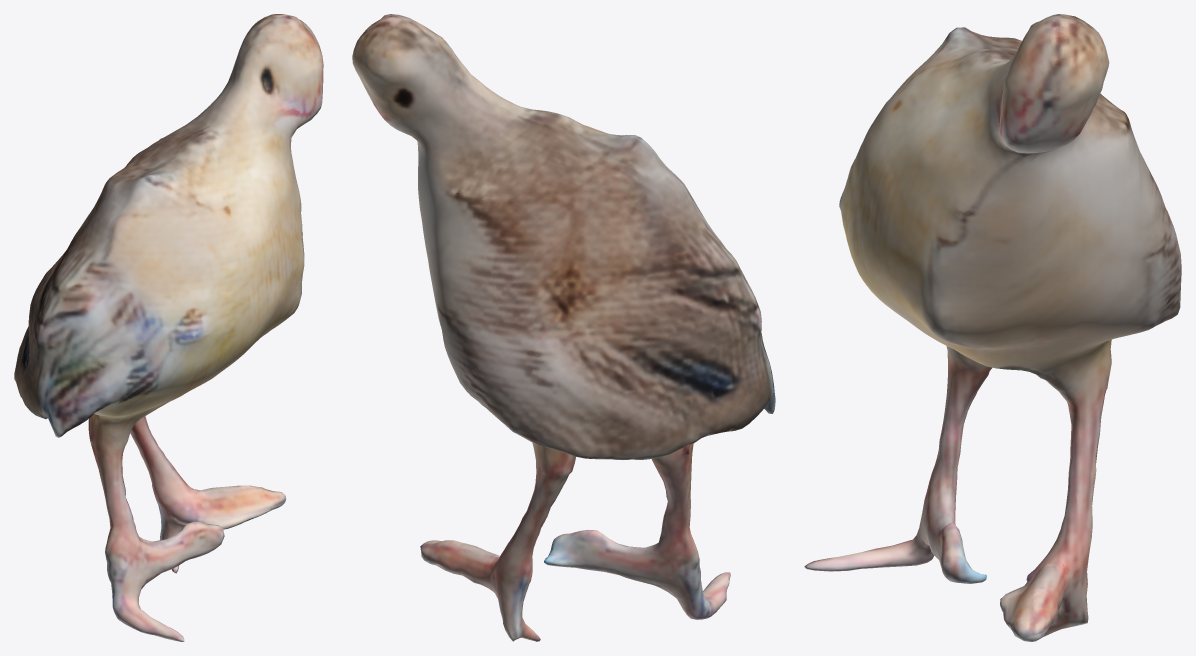
File: bebe.glb
3 renders of one model, left to right at view 1: azimuth 30°, elevation 25°; view 2: azimuth 150°, elevation 25°; view 3: azimuth 270°, elevation 25°, orthographic. The views are drawn at different scales.
Visible parts, largest first — view 1: mesh; view 2: mesh; view 3: mesh.
Boxes of the visible parts, x1,y1,x2,y2 form: mesh: [14, 14, 323, 641]; mesh: [352, 14, 775, 641]; mesh: [804, 14, 1181, 641].
Bounding box in the file's own units: 1.11 × 1.74 × 0.8609.
1 material, 1 textured.
